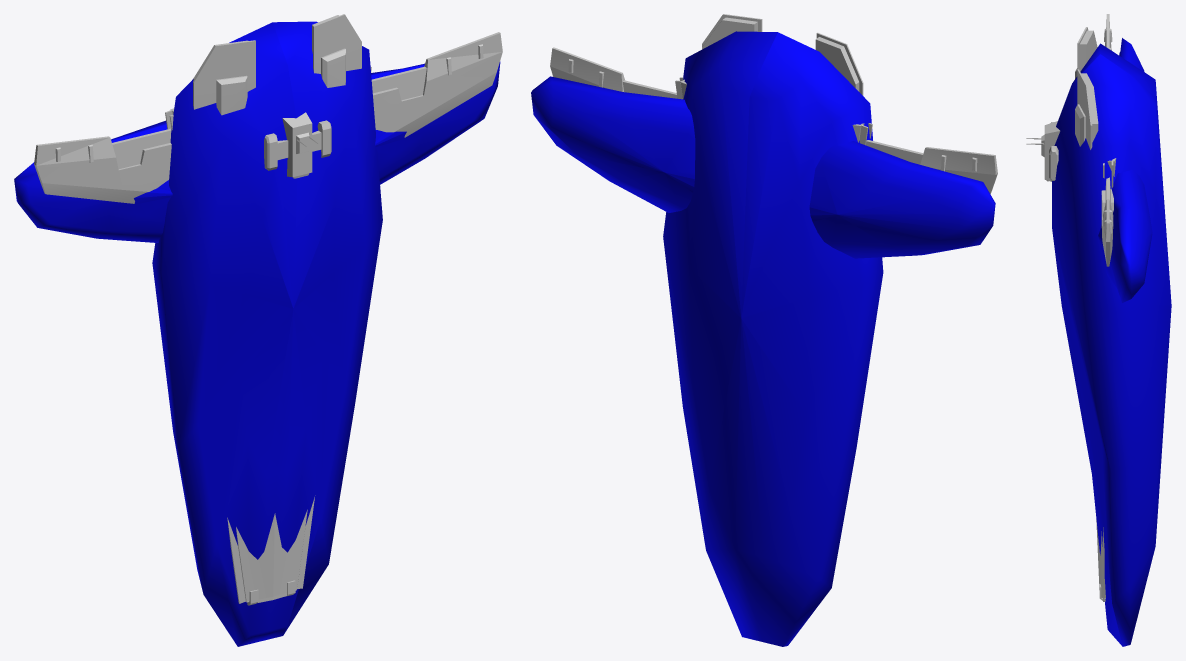
Rendered from bbg_VictoryMark2.obj.
The picture shows the model from 3 angles, left to right: view 1: azimuth 30°, elevation 25°; view 2: azimuth 150°, elevation 25°; view 3: azimuth 270°, elevation 25°; orthographic projection. The views are drawn at different scales.
Parts seen in each view (by area): view 1: Shield, SOASE_MESH01, Damage_06, Damage_03, Damage_11, Damage_04, Damage_01; view 2: Shield, SOASE_MESH01; view 3: Shield, SOASE_MESH01, Object15, Damage_11, Damage_04.
Part boxes in pixels (left/top/right/bottom): Shield: left=14, top=21, right=500, bottom=646; SOASE_MESH01: left=34, top=14, right=502, bottom=605; Damage_06: left=236, top=509, right=307, bottom=601; Damage_03: left=119, top=76, right=247, bottom=189; Damage_11: left=282, top=112, right=312, bottom=177; Damage_04: left=321, top=48, right=345, bottom=87; Damage_01: left=194, top=74, right=255, bottom=109; Shield: left=531, top=31, right=995, bottom=646; SOASE_MESH01: left=550, top=14, right=997, bottom=193; Shield: left=1052, top=38, right=1171, bottom=646; SOASE_MESH01: left=1026, top=14, right=1115, bottom=601; Object15: left=1041, top=30, right=1114, bottom=598; Damage_11: left=1044, top=121, right=1060, bottom=181; Damage_04: left=1075, top=104, right=1085, bottom=146.
Size of the model in its own units: 233 by 289 by 65.29.
